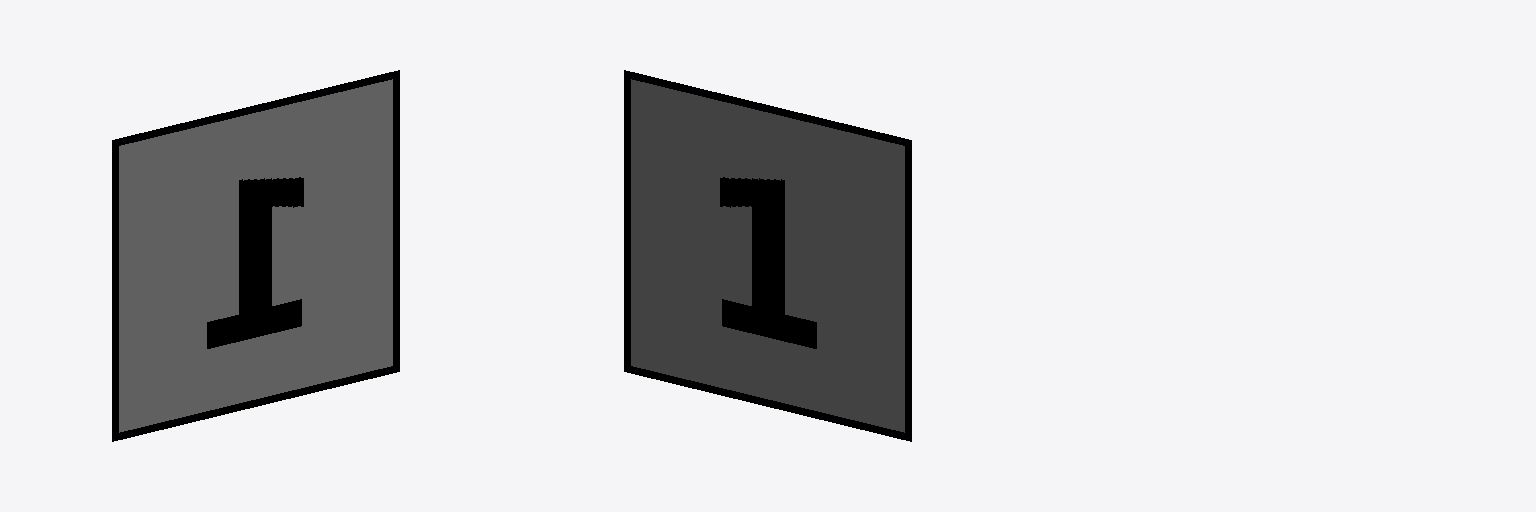
3 renders of one model, left to right at view 1: azimuth 30°, elevation 25°; view 2: azimuth 150°, elevation 25°; view 3: azimuth 270°, elevation 25°, orthographic.
Parts seen in each view (by area): view 1: 平面.001; view 2: 平面.001; view 3: none.
Part boxes in pixels (x1,y1,x2,y2): 平面.001: (112,70,399,441); 平面.001: (624,70,911,441).
Bounding box in the file's own units: 2 × 2 × 0.
1 materials, 1 textured.